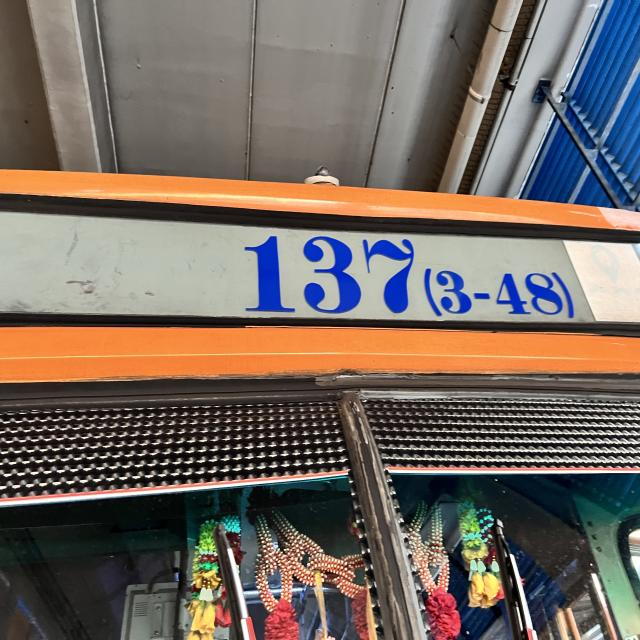BMTA-bus: (0, 173, 640, 640)
Bus-Line-Number: (231, 226, 583, 323)
